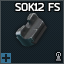SOK-12 rear sight: (0, 0, 64, 64)
